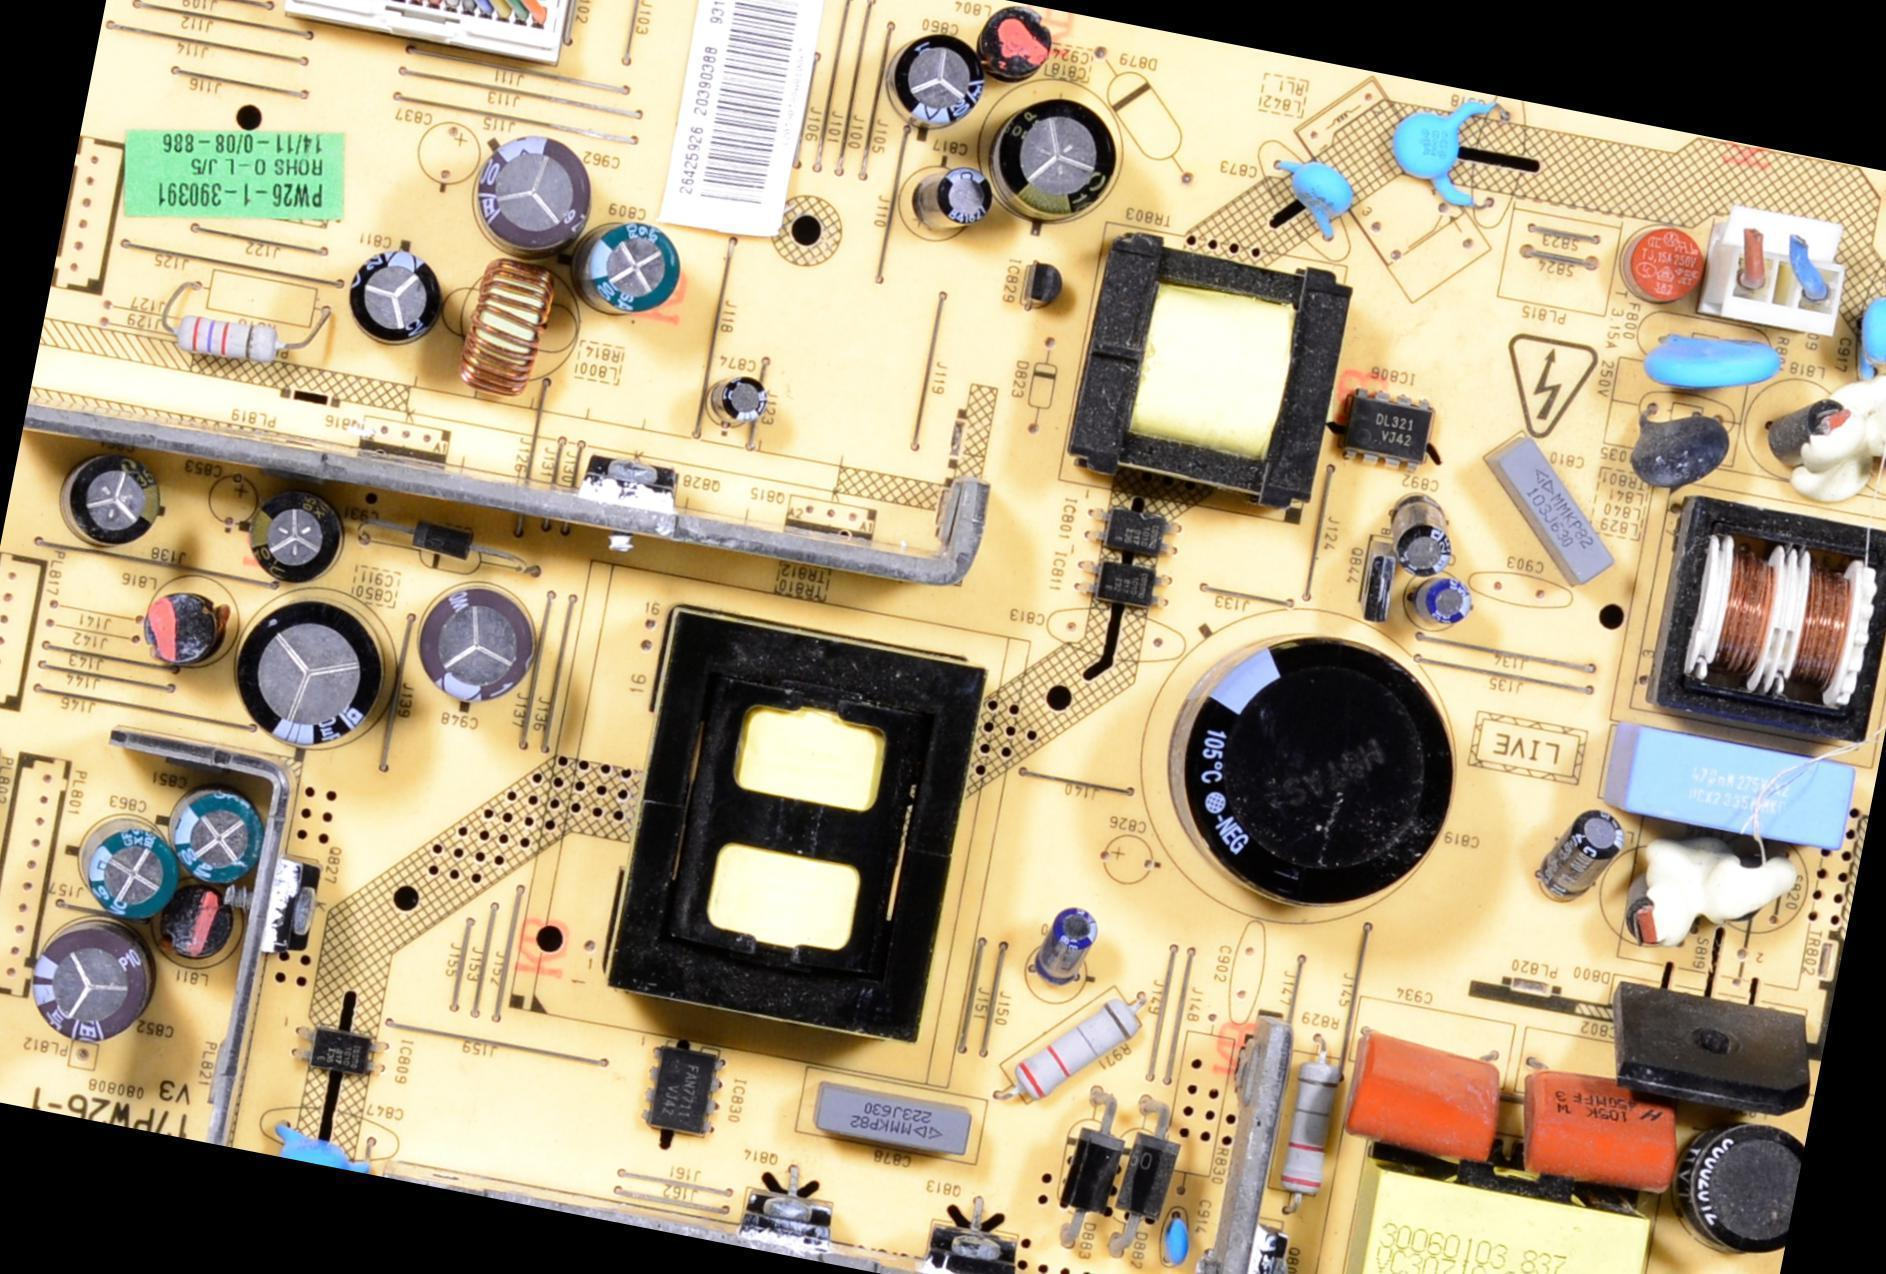Capacitor: (1123, 620, 1491, 931), (1508, 1046, 1692, 1212), (1340, 1015, 1516, 1174), (229, 598, 397, 753), (978, 83, 1135, 239), (17, 913, 171, 1070), (1473, 434, 1618, 587), (402, 579, 561, 717), (1671, 1120, 1806, 1273), (466, 129, 605, 275), (866, 28, 1004, 159), (568, 189, 696, 329), (810, 1077, 976, 1172), (1610, 379, 1733, 506), (1400, 92, 1529, 209), (161, 780, 272, 896), (56, 450, 175, 551), (347, 243, 449, 360), (1533, 799, 1635, 914), (240, 496, 351, 598), (78, 819, 187, 922), (1381, 474, 1474, 578), (1772, 379, 1873, 474), (1258, 148, 1360, 239), (1036, 901, 1118, 1001), (921, 160, 1009, 246), (277, 1107, 387, 1175), (1407, 562, 1482, 642), (699, 363, 771, 431), (1844, 287, 1885, 386), (1151, 1217, 1217, 1273)
Connector: (0, 746, 31, 1031)
IC: (629, 1037, 754, 1159), (1331, 381, 1442, 476), (296, 1017, 394, 1092), (1070, 550, 1179, 615), (1084, 506, 1190, 567), (1018, 258, 1064, 316)
Resistor: (1006, 989, 1137, 1113), (156, 289, 310, 391), (1270, 1045, 1362, 1207)
Transistor: (579, 446, 701, 512), (352, 410, 458, 467), (776, 491, 877, 546), (1353, 537, 1405, 625)
